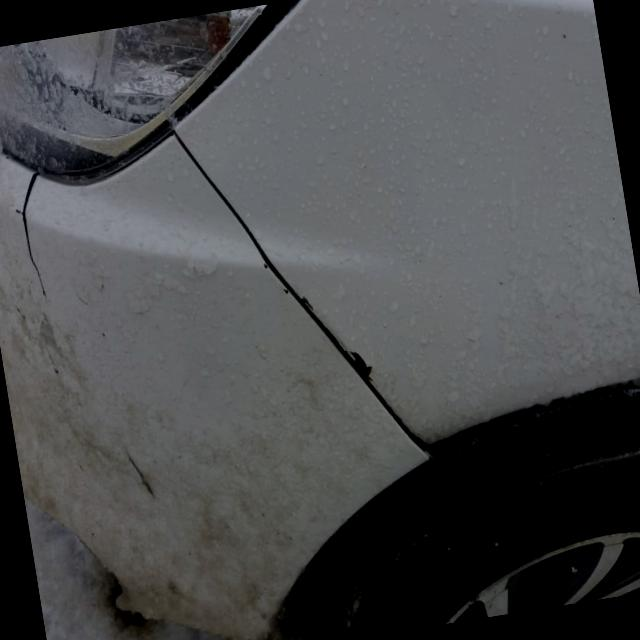Dechirure: (173, 97, 448, 517), (0, 173, 64, 313), (121, 439, 157, 511)
